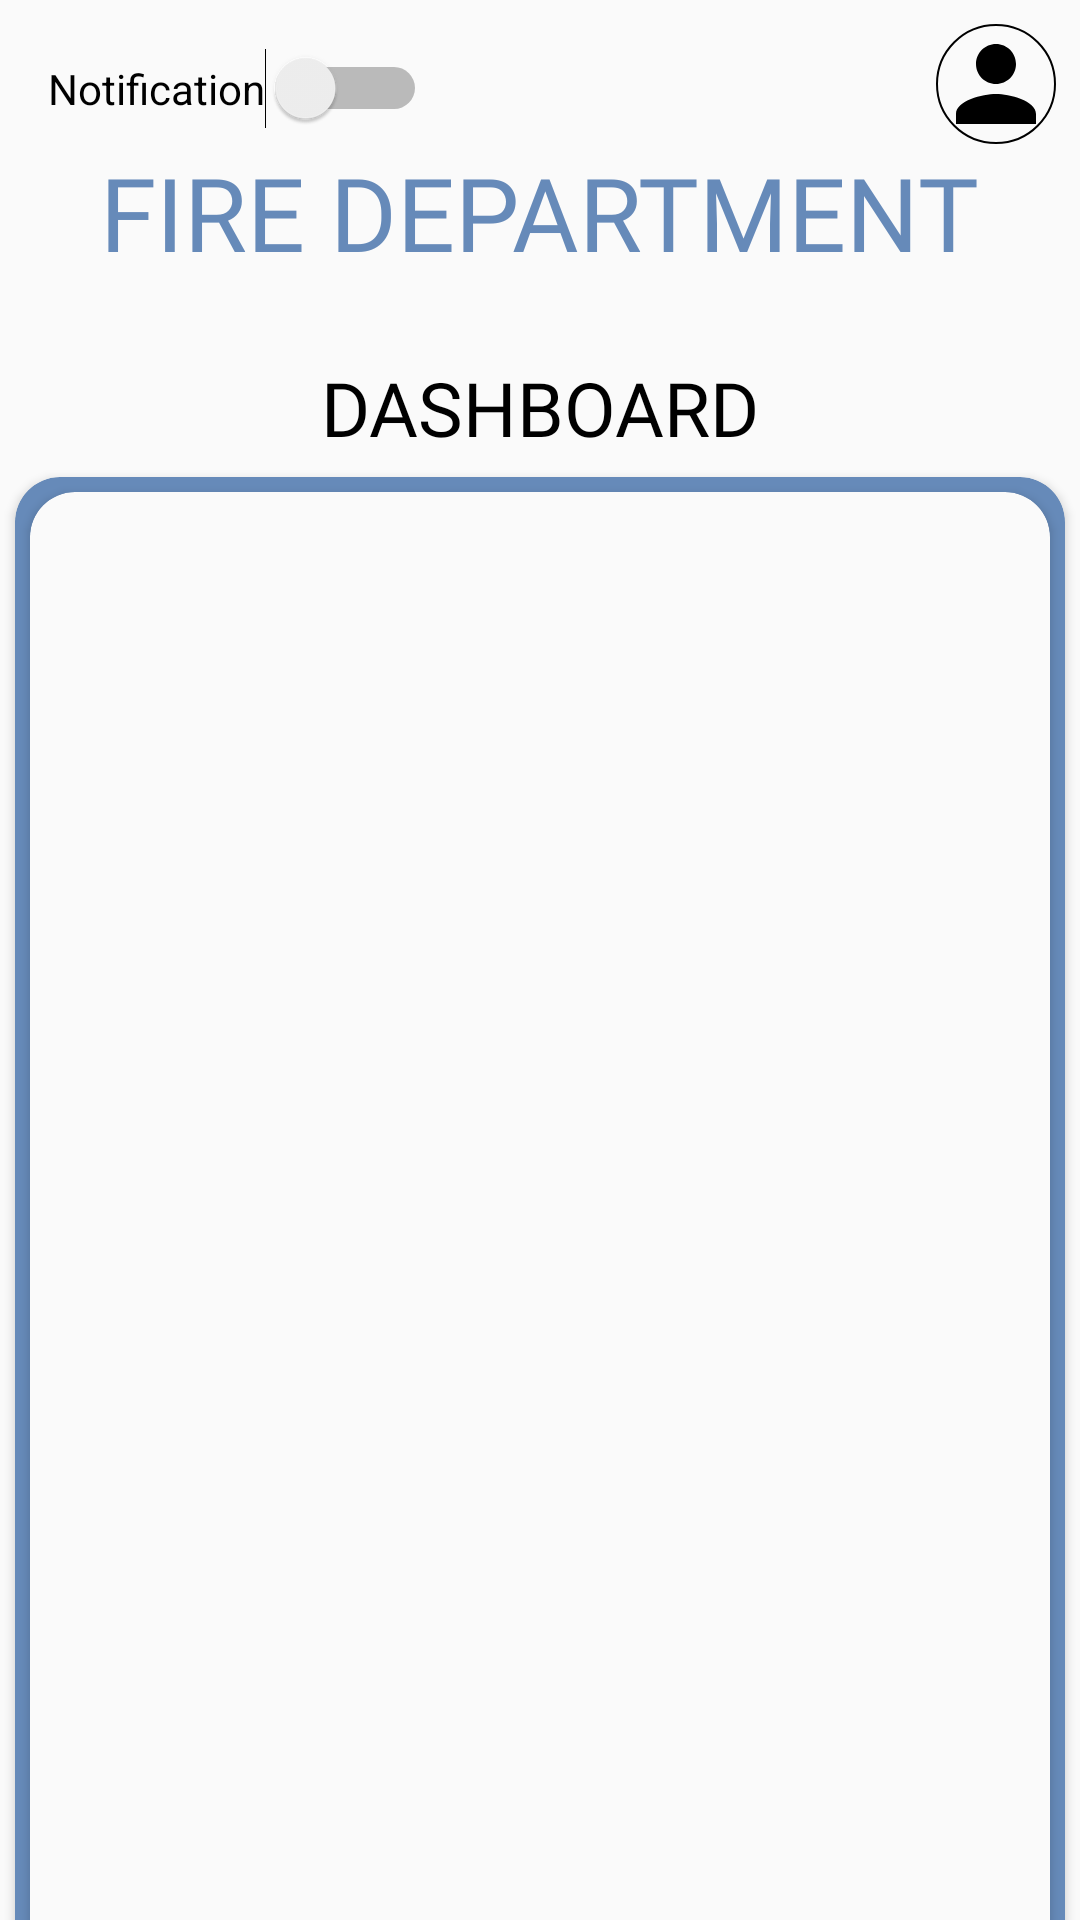

Icon bounding boxes for this 1080*1920 phone screenshot, format (x1, y1, x2, y2):
person: (936, 24, 1056, 144)
